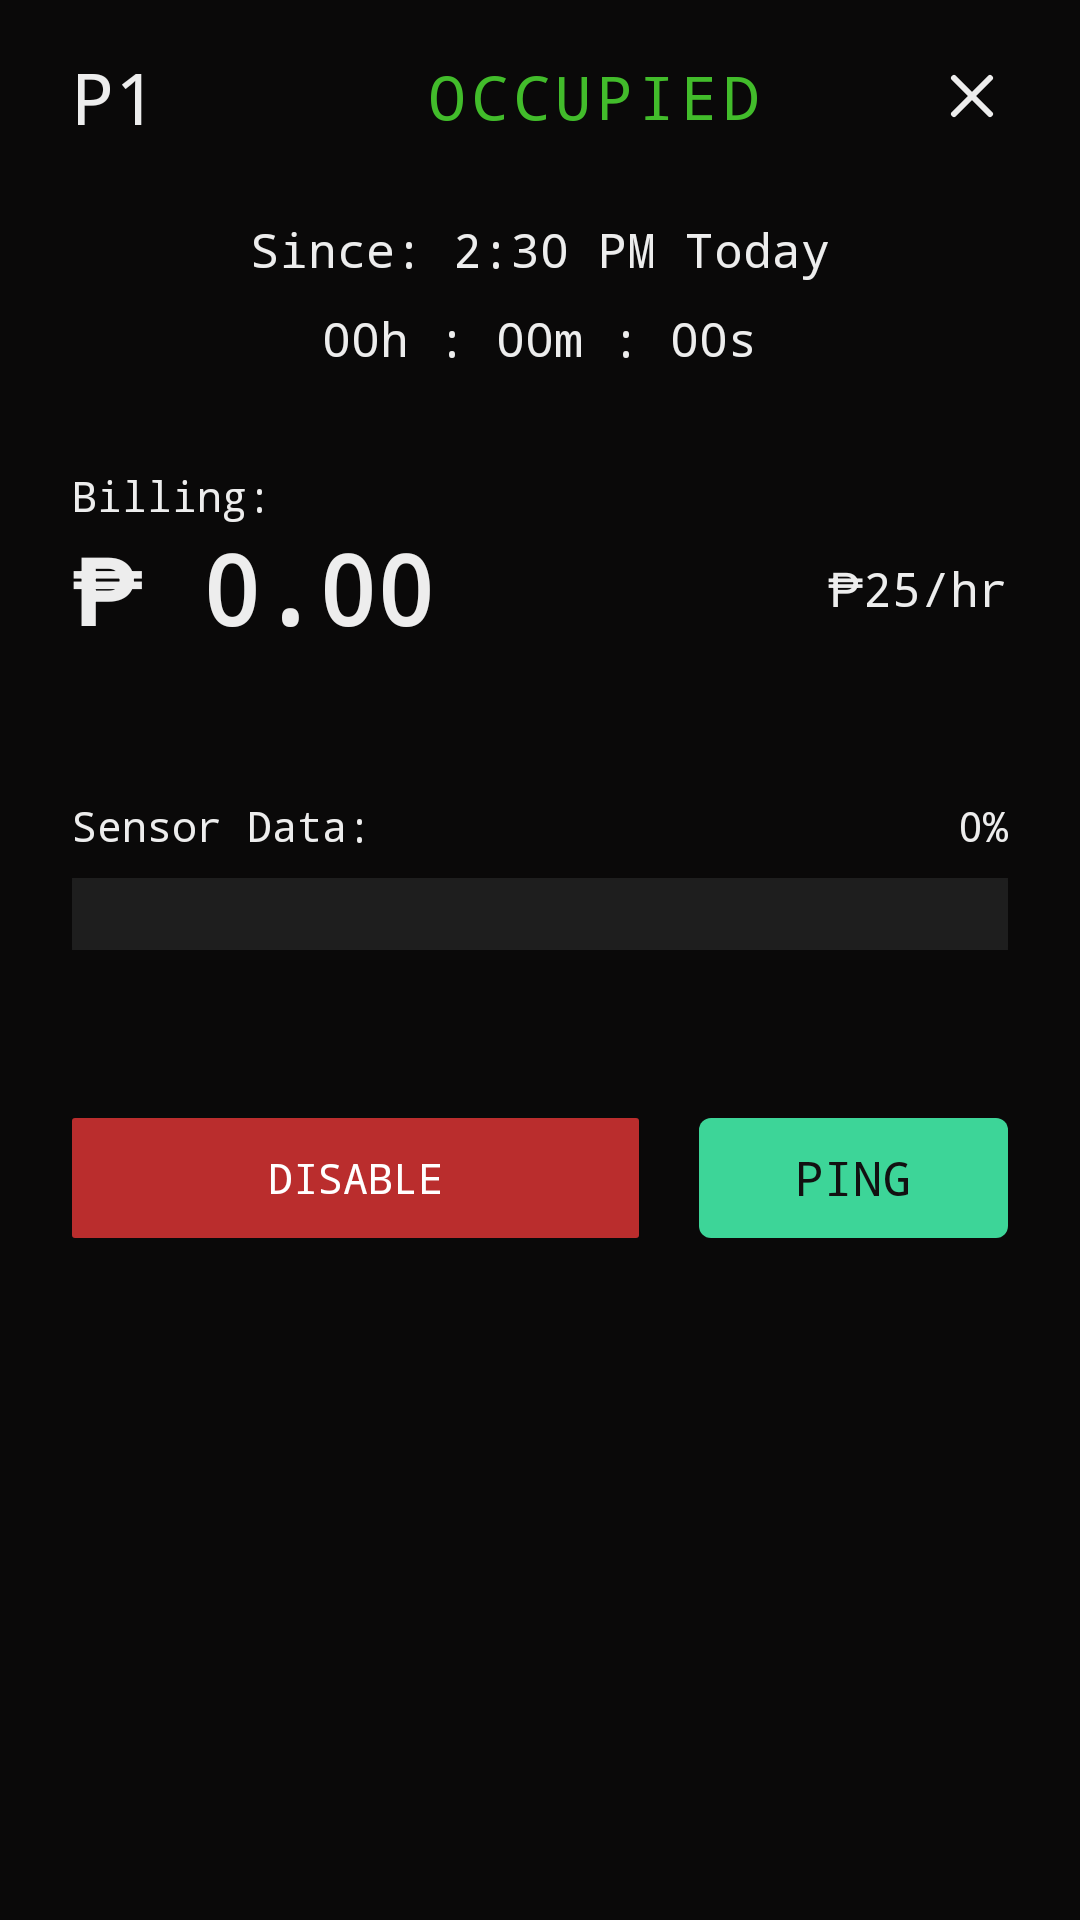

Where icons sit on this 1080px×1920px app screen, as {"x1": x1, "y1": y1, "x2": x2, "y2": y2}:
close: {"x1": 951, "y1": 75, "x2": 993, "y2": 117}
